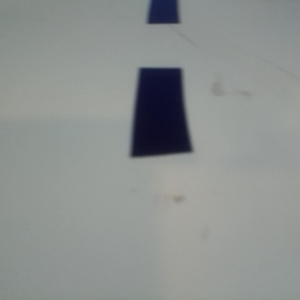bottom_left: (180, 9, 253, 30)
